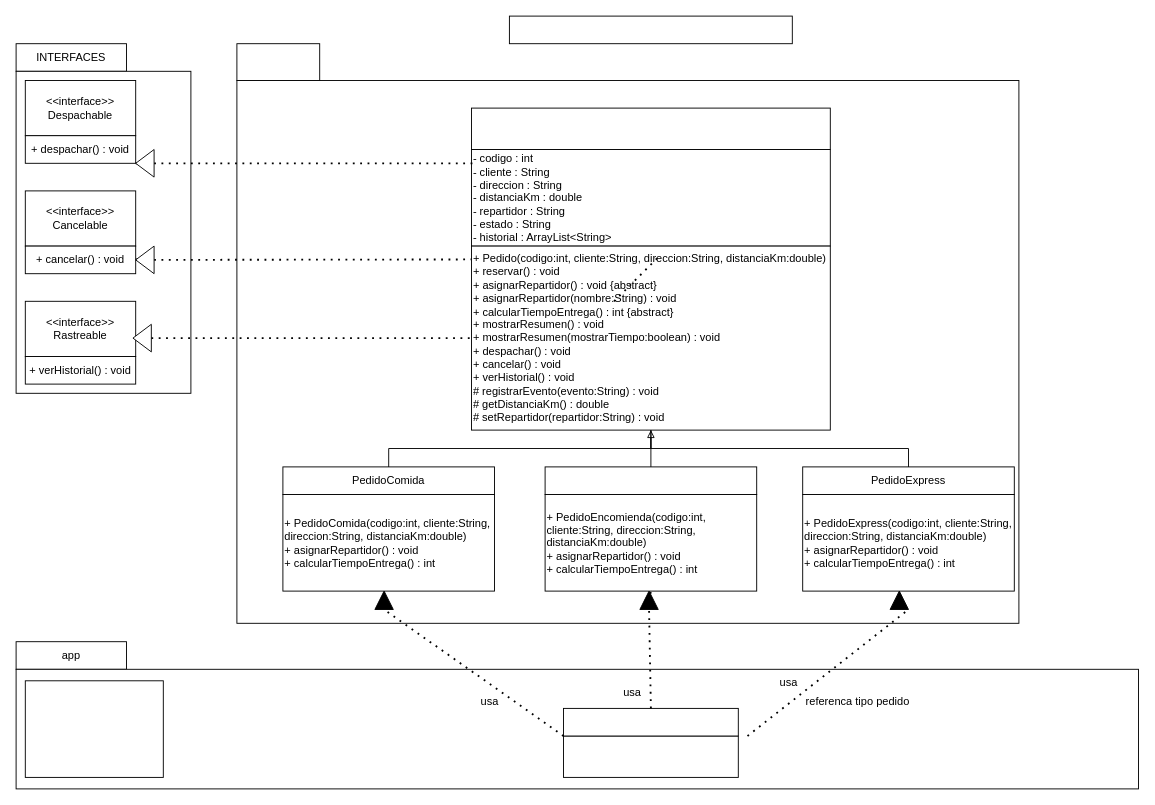
This 1155x805 diagram has some shape labels left out. The shapes that lost their labels are listed below. From the top down, each one's centre as x and y in pixels, then its label:
point 650,29: Diagrama de Clases - SpeedFast
point 278,61: model
point 650,128: <<Abstract>> Pedido
point 650,480: PedidoEncomienda
point 93,728: Simula 3 casos: comida, encomienda y express
point 650,721: Main
point 650,756: + main (args:string[]) : void
